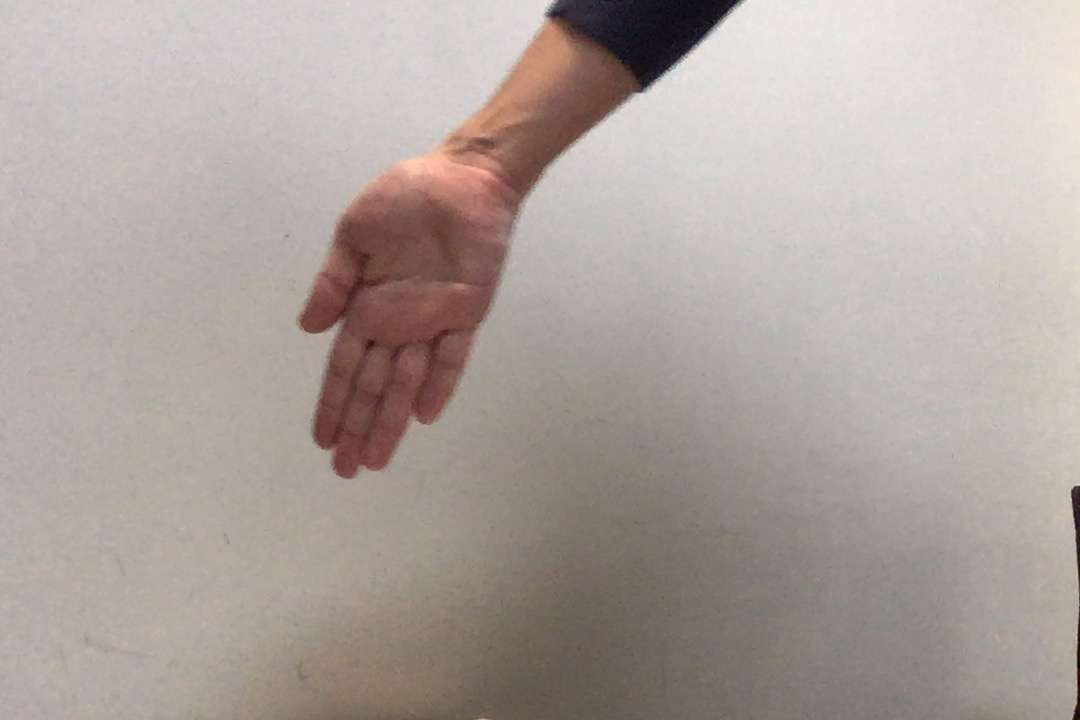palmhand: (290, 149, 519, 483)
